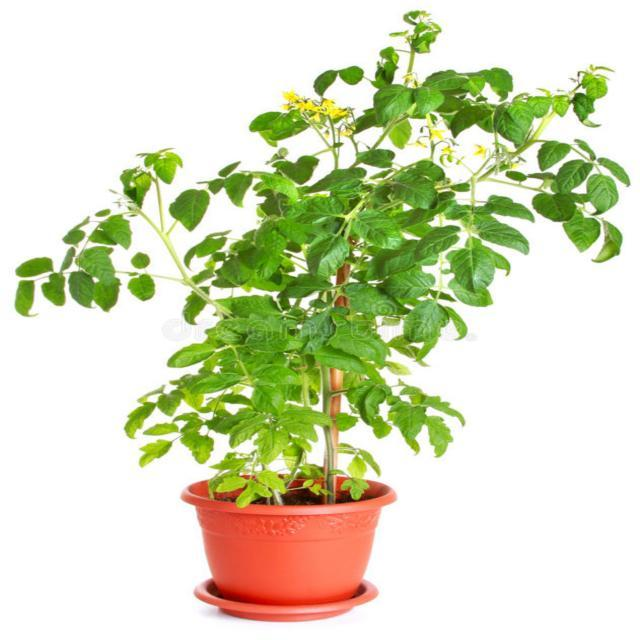plant: (14, 11, 630, 506), (291, 223, 294, 224), (286, 384, 289, 384)
